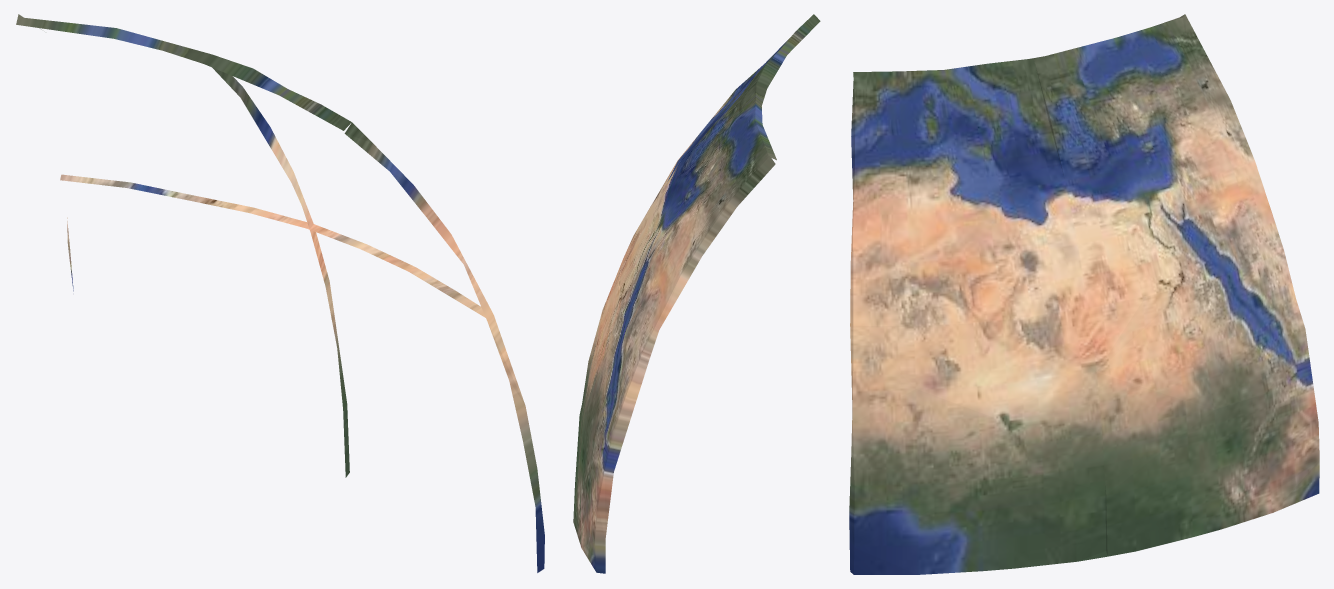
3 renders of one model, left to right at view 1: azimuth 30°, elevation 25°; view 2: azimuth 150°, elevation 25°; view 3: azimuth 270°, elevation 25°, orthographic. The views are drawn at different scales.
Bounding box in the file's own units: 3235678 × 4563439 × 4550989.
1 material, 1 textured.
